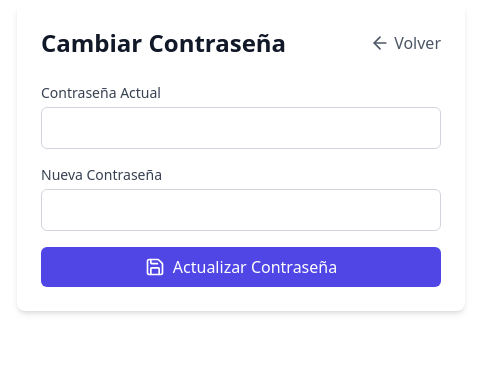
it: ChangePasswordPage › displays error message on submission failure
Type "old" into the 1st password field named "currentPassword" at (241, 128), box [41, 107, 441, 149]
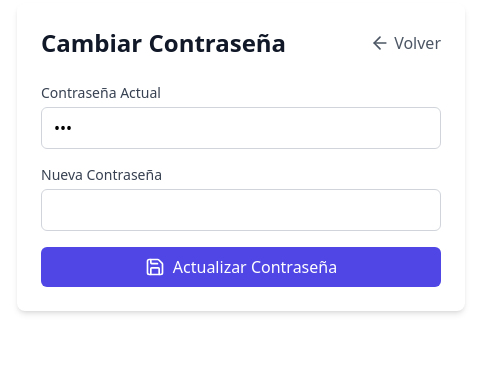
Type "new" into the password field named "newPassword" below "Nueva Contraseña" at (241, 210), box [41, 189, 441, 231]
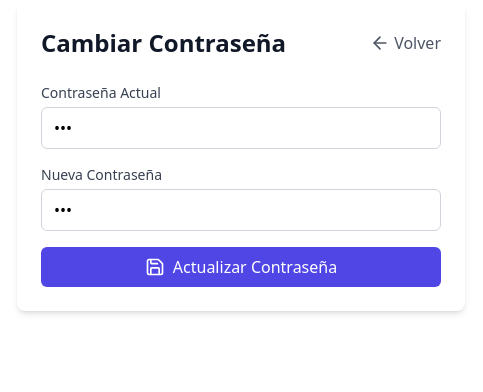
Click the button "Actualizar Contraseña" at (241, 267), box [41, 247, 441, 287]
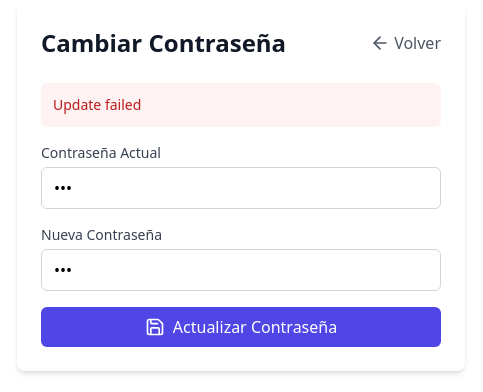
Now the text "Update failed" is shown, box [41, 83, 441, 127]
